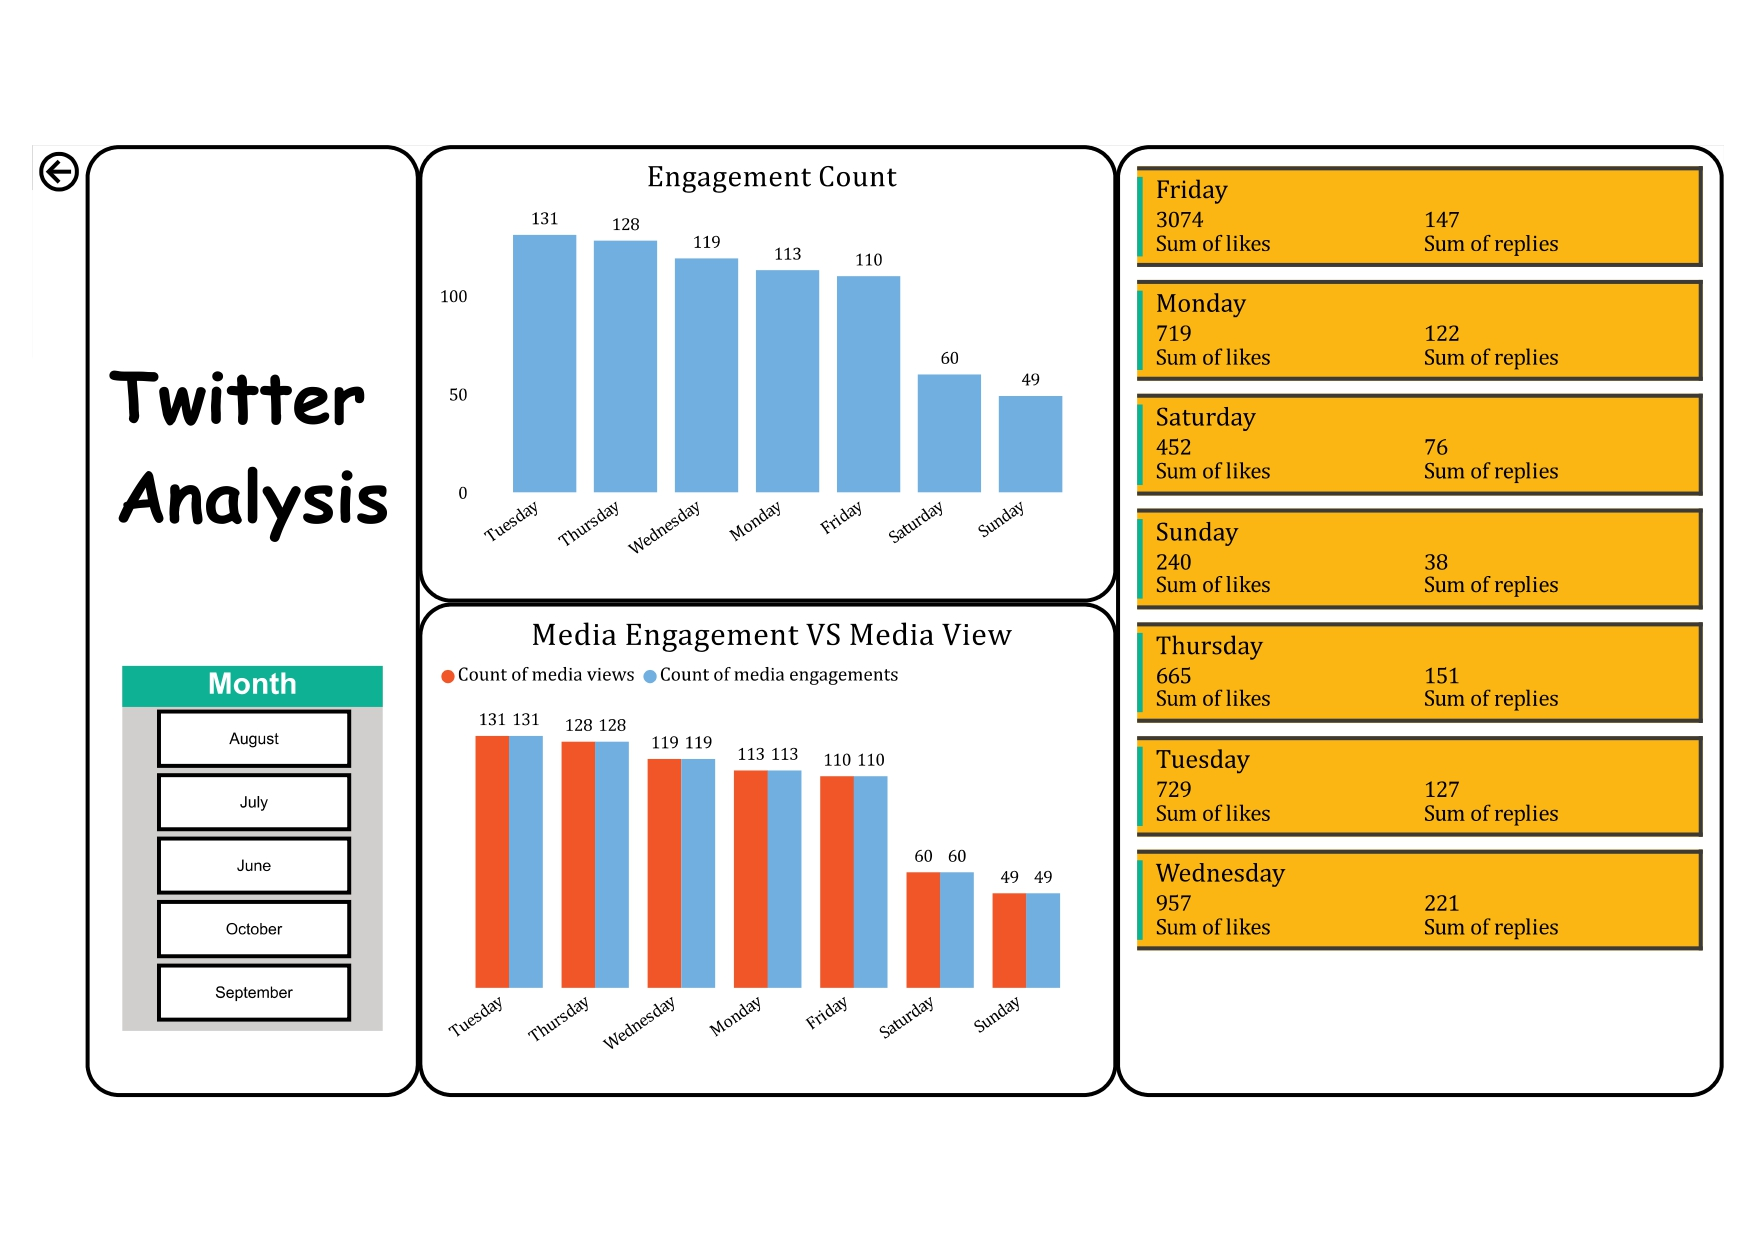

The page's visual inventory and layout, read from the dashboard file:
{"tool":"powerbi","page":{"name":"Page 2","canvas":[1280,720],"ordinal":1},"visuals":[{"type":"textbox","box":[40,0,252.5,720],"z":0},{"type":"slicer","title":"Month","fields":{"Values":["SocialMedia.MonthName"]},"box":[67.5,393.8,197.5,276.2],"z":1000},{"type":"clusteredColumnChart","title":"Media Engagement VS Media View ","fields":{"Category":["SocialMedia.DayWeek "],"Y":["CountNonNull(SocialMedia.media views)","CountNonNull(SocialMedia.media engagements)"]},"box":[292.3,345.8,528.3,374.6],"z":2000},{"type":"clusteredColumnChart","title":"Engagement Count","fields":{"Category":["SocialMedia.DayWeek "],"Y":["CountNonNull(SocialMedia.engagement rate)"]},"box":[292.3,0,528.3,345.8],"z":3000},{"type":"multiRowCard","title":"Media Engagement VS Media View ","fields":{"Values":["SocialMedia.DayWeek ","Sum(SocialMedia.likes)","Sum(SocialMedia.replies)"]},"box":[820,0,460,720],"z":4000},{"type":"actionButton","box":[0,0,40,40],"z":5000}]}

Visuals, with their boxes in screenshot pixels (x1, y1, x2, y2):
textbox: bbox=(89, 146, 418, 1085)
"Month" slicer: bbox=(125, 660, 382, 1020)
"Media Engagement VS Media View " clusteredColumnChart: bbox=(418, 597, 1107, 1086)
"Engagement Count" clusteredColumnChart: bbox=(418, 146, 1107, 597)
"Media Engagement VS Media View " multiRowCard: bbox=(1106, 146, 1706, 1085)
actionButton: bbox=(37, 146, 89, 198)
